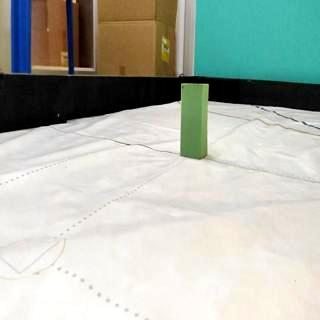greenbox: (180, 82, 210, 162)
